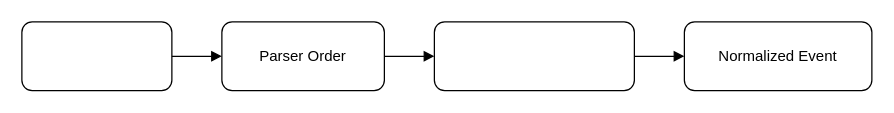
The diagram is 894 pixels wide and 113 high, and some of its shapes have lost their labels. Each missing label, with the centre of its shape:
"Raw Event" belongs at point 96,56.
"Recognizer + Parse" belongs at point 533,56.
